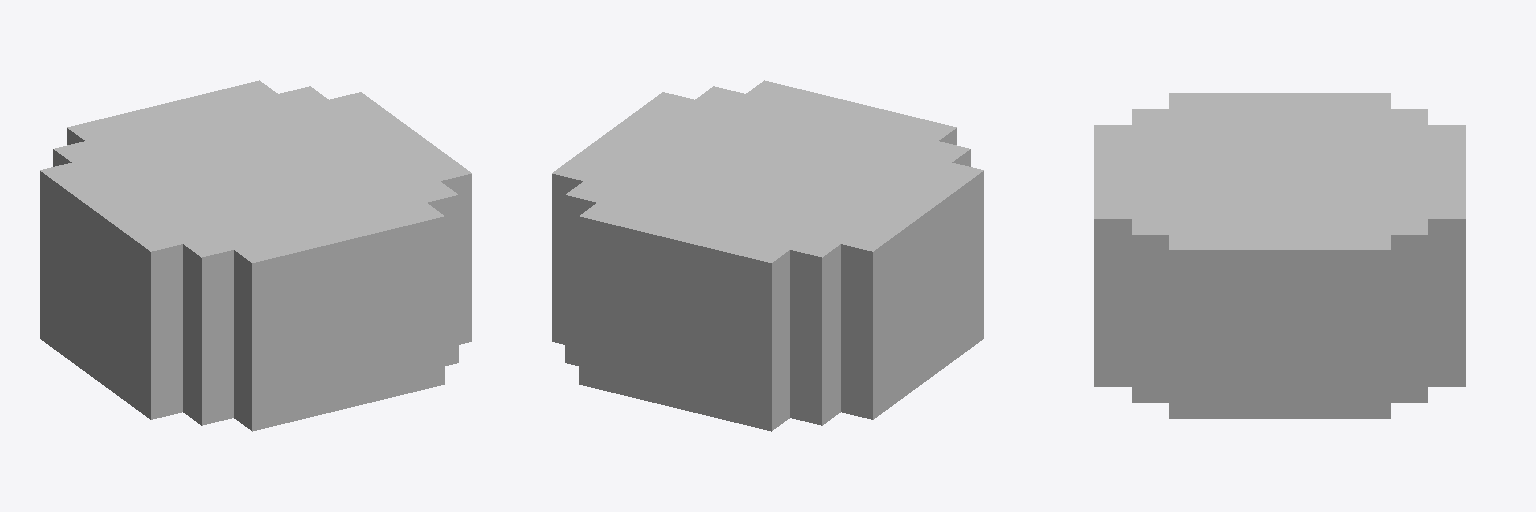
The model's file is button.obj.
The picture shows the model from 3 angles: view 1: azimuth 30°, elevation 25°; view 2: azimuth 150°, elevation 25°; view 3: azimuth 270°, elevation 25°; orthographic projection.
Visible parts, largest first — view 1: object 1; view 2: object 1; view 3: object 1.
Part boxes in pixels (x1,y1,x2,y2): object 1: (40,80,471,431); object 1: (552,80,983,431); object 1: (1094,93,1465,418).
Bounding box in the file's own units: 1 × 0.5 × 1.